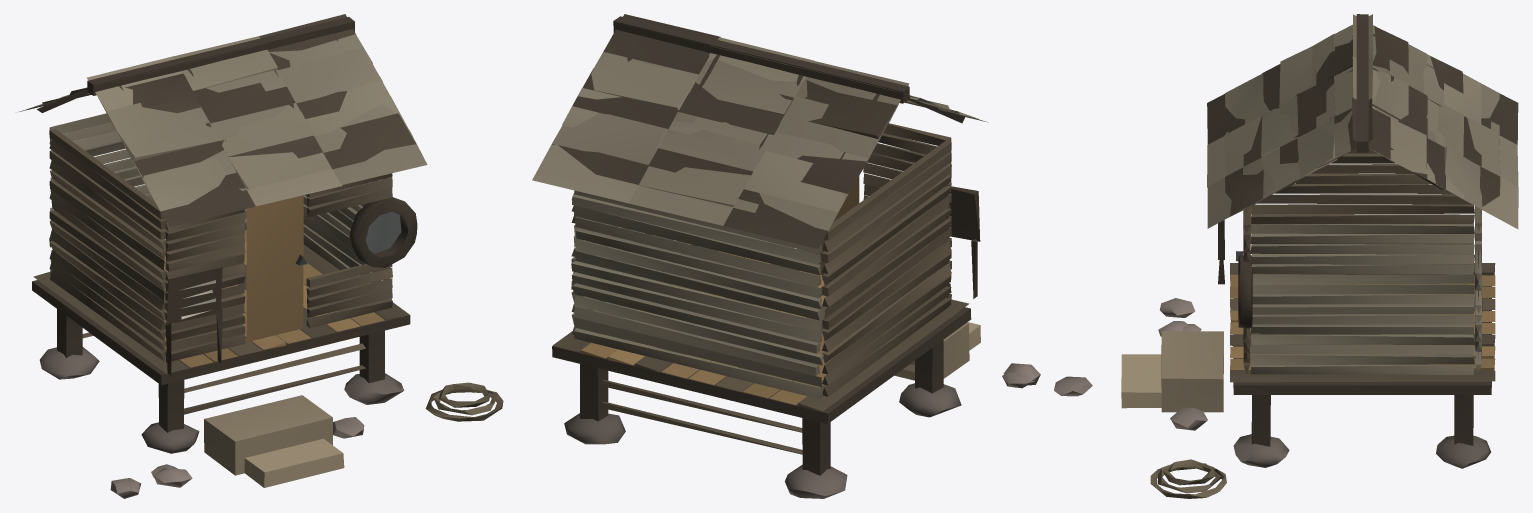
File: lookout_hut_a_lod2.glb
3 renders of one model, left to right at view 1: azimuth 30°, elevation 25°; view 2: azimuth 150°, elevation 25°; view 3: azimuth 270°, elevation 25°, orthographic. The views are drawn at different scales.
Parts seen in each view (by area): view 1: Surface.001; view 2: Surface.001; view 3: Surface.001.
Part boxes in pixels (x1,y1,x2,y2): Surface.001: [19, 14, 503, 498]; Surface.001: [532, 14, 1092, 498]; Surface.001: [1121, 14, 1518, 498].
Size of the model in its own units: 6.24 by 5.16 by 5.49.
